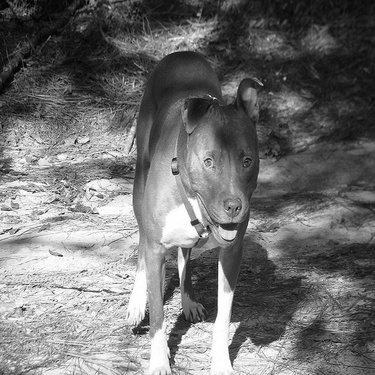dog: (110, 46, 270, 372)
